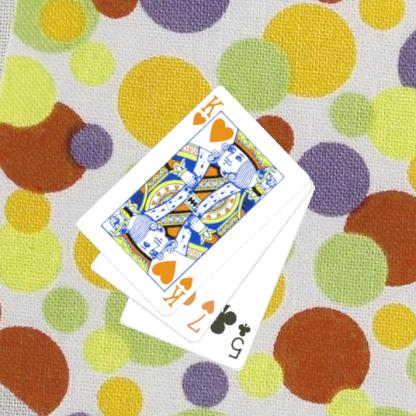5C: (225, 320, 252, 362)
7H: (184, 297, 216, 335)
KH: (160, 274, 194, 310), (190, 93, 226, 127)
